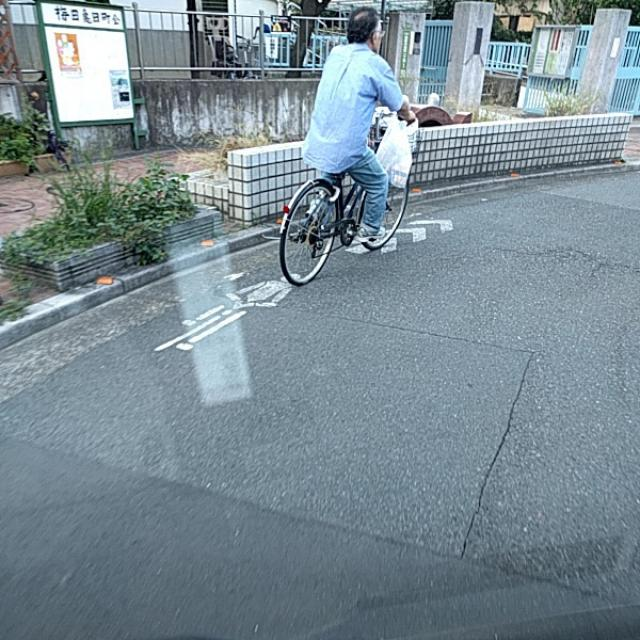pothole: (484, 376, 516, 471)
